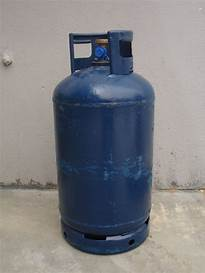blue_gas: (52, 31, 155, 255)
